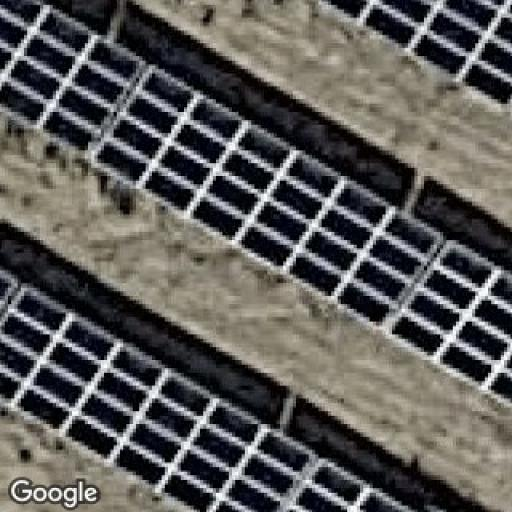solar-panel: (0, 0, 512, 398), (0, 281, 413, 512), (310, 0, 511, 110)
